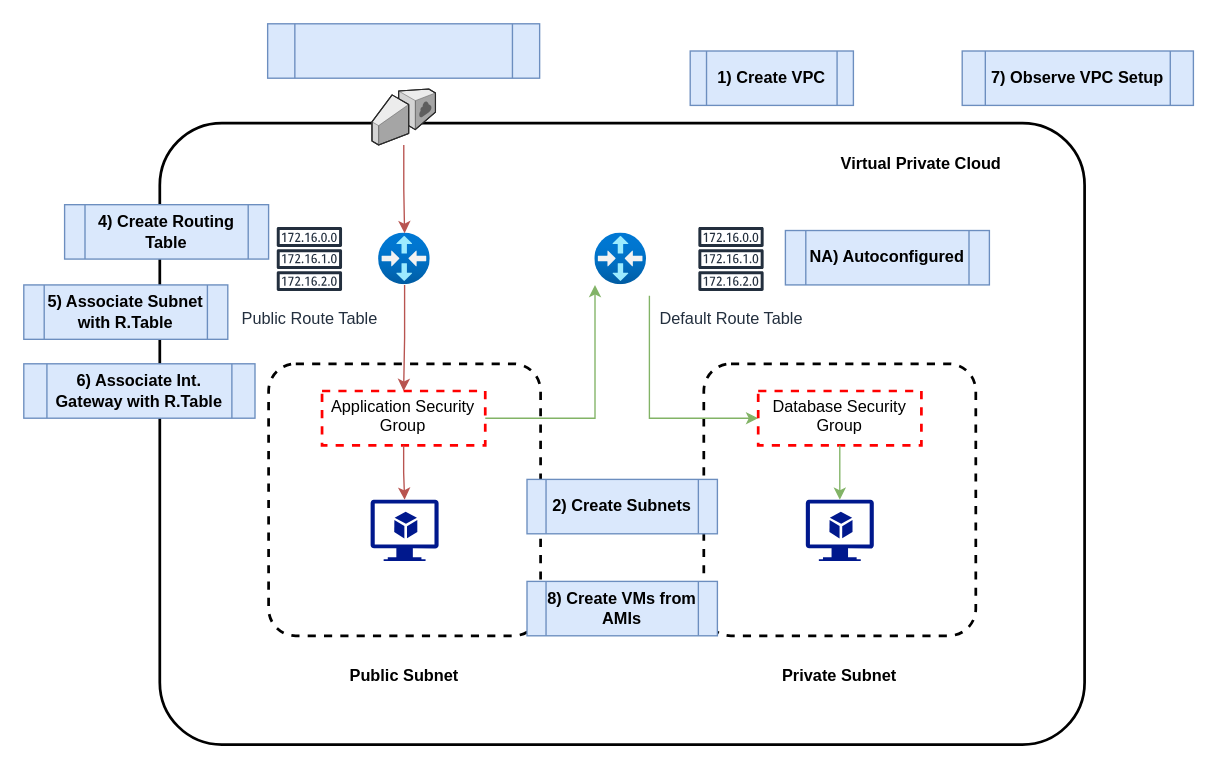
Image size: 1217x770. Some labels were removed from this diagram. The centre of each missing label's shape, as x and y in pixels:
3) Create Internet Gateway + Attach to VPC: (x=403, y=50)
Application Virtual Machine: (x=404, y=529)
Database Virtual Machine: (x=839, y=529)
Internet Gateway: (x=403, y=116)
